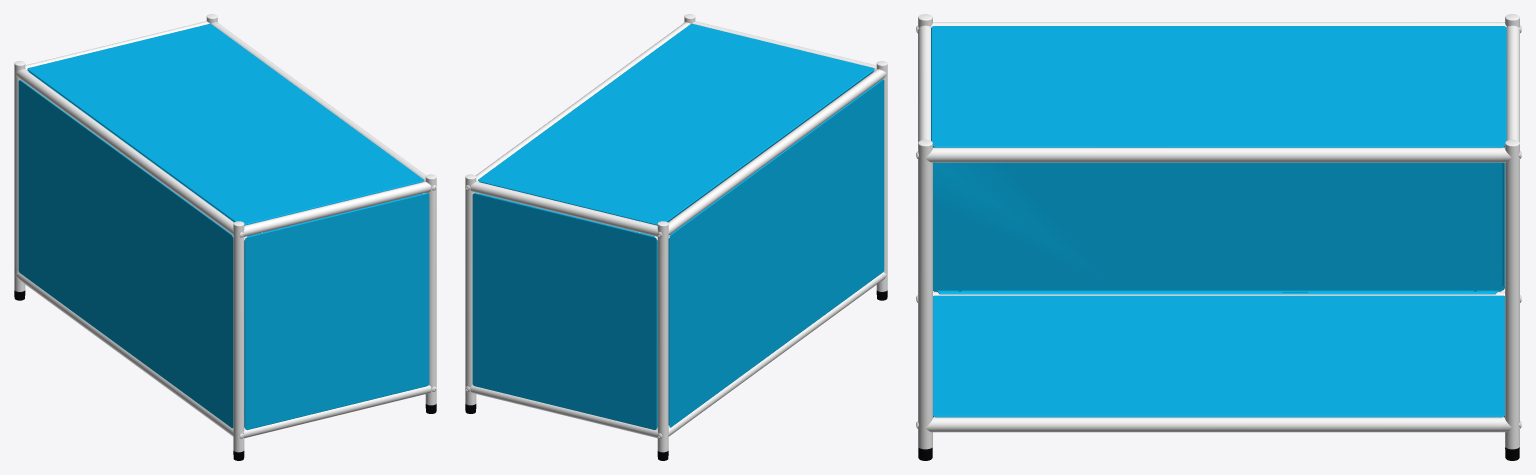
The model's file is 80x40x40-1-3-blue_optimized_optimized.glb.
The picture shows the model from 3 angles, left to right: view 1: azimuth 30°, elevation 25°; view 2: azimuth 150°, elevation 25°; view 3: azimuth 270°, elevation 25°; orthographic projection. The views are drawn at different scales.
Visible parts, largest first — view 1: 直角鐵板-80x40-5 - 零件, new-上塞-1 - 零件; view 2: 直角鐵板-80x40-5 - 零件, new-上塞-1 - 零件; view 3: 直角鐵板-80x40-5 - 零件, new-上塞-1 - 零件.
Part boxes in pixels (x1,y1,x2,y2): 直角鐵板-80x40-5 - 零件: (18,23,429,429); new-上塞-1 - 零件: (14,14,436,452); 直角鐵板-80x40-5 - 零件: (472,23,884,429); new-上塞-1 - 零件: (465,14,887,452); 直角鐵板-80x40-5 - 零件: (931,26,1506,417); new-上塞-1 - 零件: (916,14,1521,449).
Bounding box in the file's own units: 0.3992 × 0.4453 × 0.7732.
